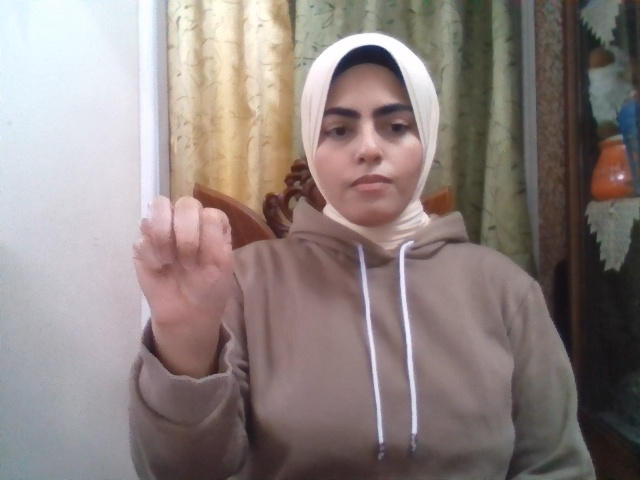M: (132, 195, 234, 333)
